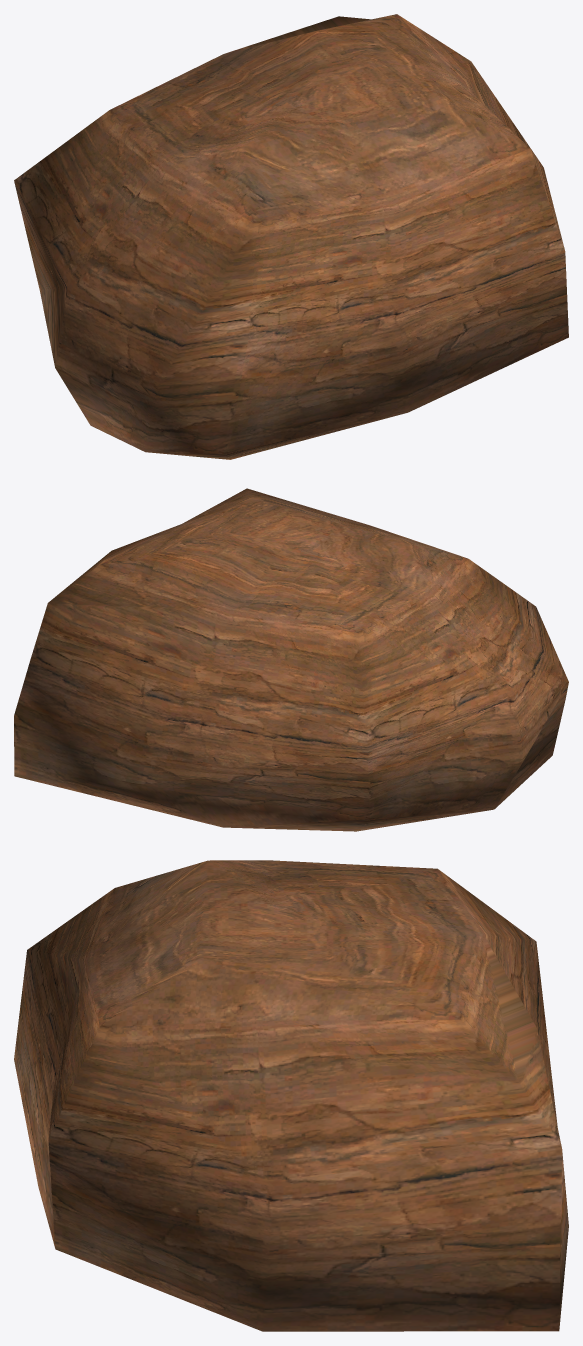
File: rock_tatt_jundland_boulder_a2_l3.fbx
3 renders of one model, top to bottom at view 1: azimuth 30°, elevation 25°; view 2: azimuth 150°, elevation 25°; view 3: azimuth 270°, elevation 25°, orthographic. The views are drawn at different scales.
Parts seen in each view (by area): view 1: mesh_node; view 2: mesh_node; view 3: mesh_node.
Boxes of the visible parts, x1,y1,x2,y2 form: mesh_node: (14, 14, 568, 459); mesh_node: (14, 488, 568, 831); mesh_node: (14, 860, 568, 1331).
Bounding box in the file's own units: 3.03 × 1.63 × 2.54.
